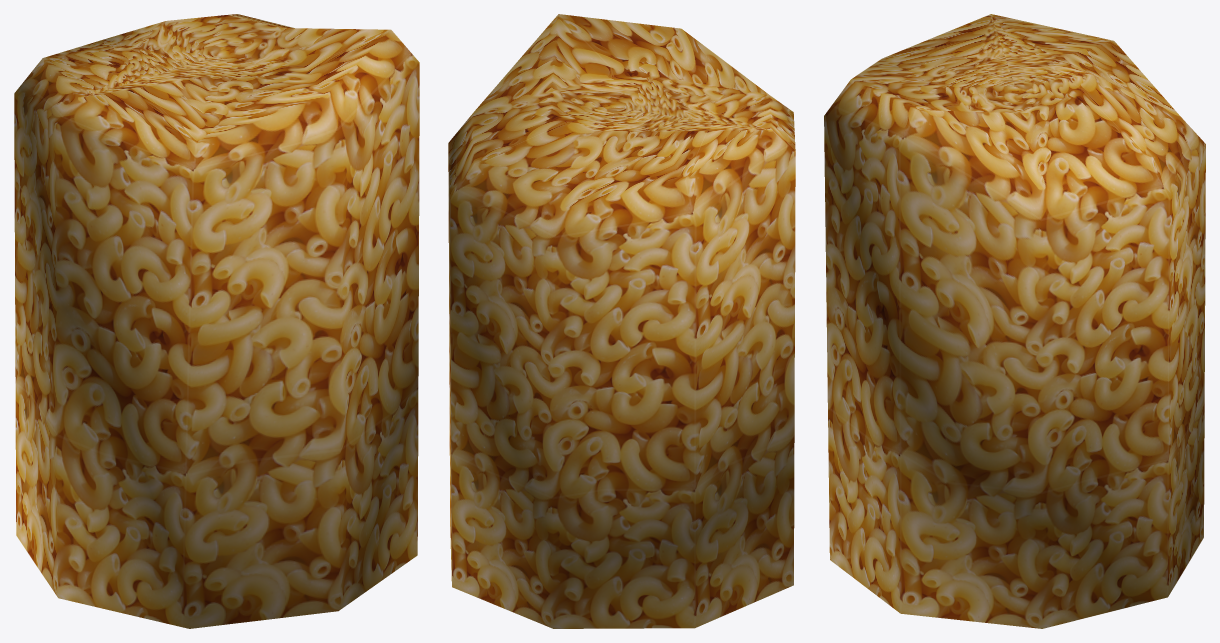
File: M_Home_Garden_Pot_Macaroni.fbx
3 renders of one model, left to right at view 1: azimuth 30°, elevation 25°; view 2: azimuth 150°, elevation 25°; view 3: azimuth 270°, elevation 25°, orthographic. The views are drawn at different scales.
Visible parts, largest first — view 1: M_Home_Garden_Pot_Macaroni; view 2: M_Home_Garden_Pot_Macaroni; view 3: M_Home_Garden_Pot_Macaroni.
Part boxes in pixels (box(x1,y1,x2,y2)): M_Home_Garden_Pot_Macaroni: box(14, 14, 419, 628); M_Home_Garden_Pot_Macaroni: box(448, 14, 795, 628); M_Home_Garden_Pot_Macaroni: box(824, 14, 1205, 628).
Bounding box in the file's own units: 17.75 × 25.41 × 17.75.
